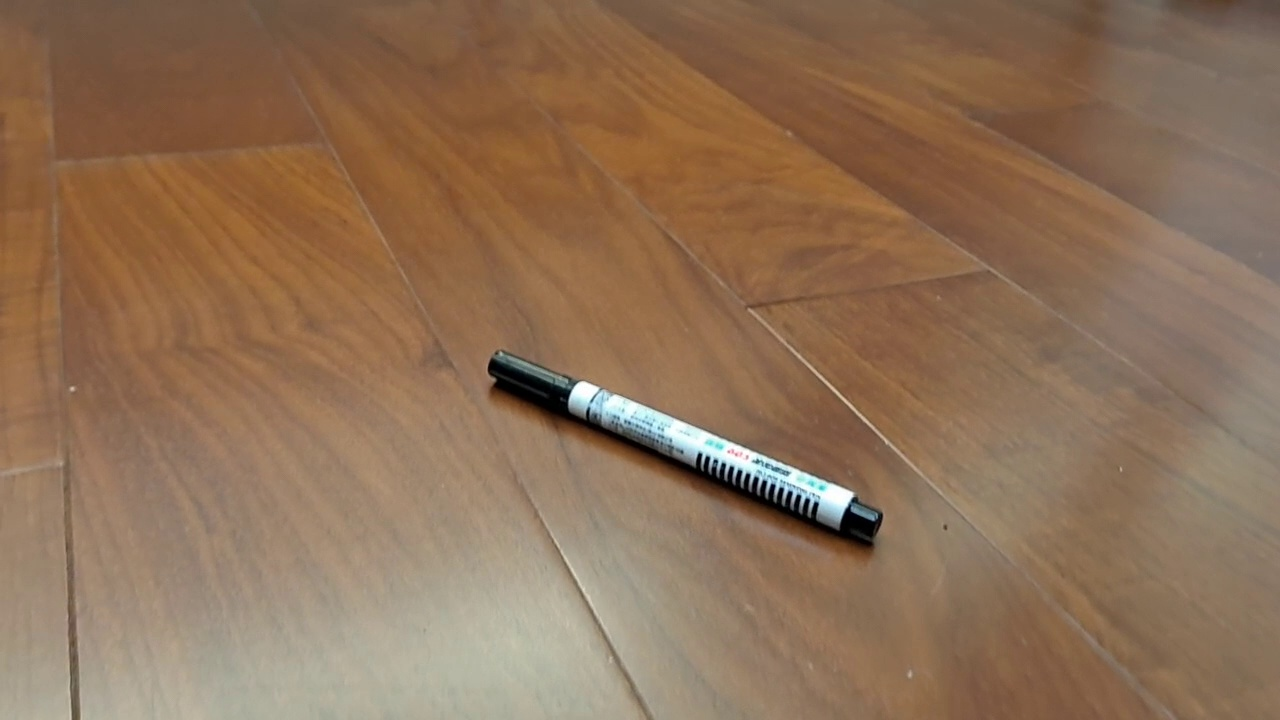pen: (487, 348, 884, 540)
